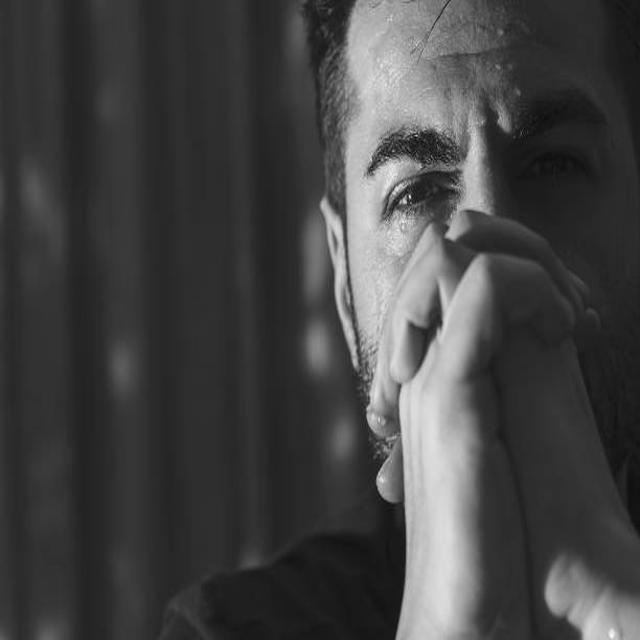Sadness: (338, 0, 640, 511)
